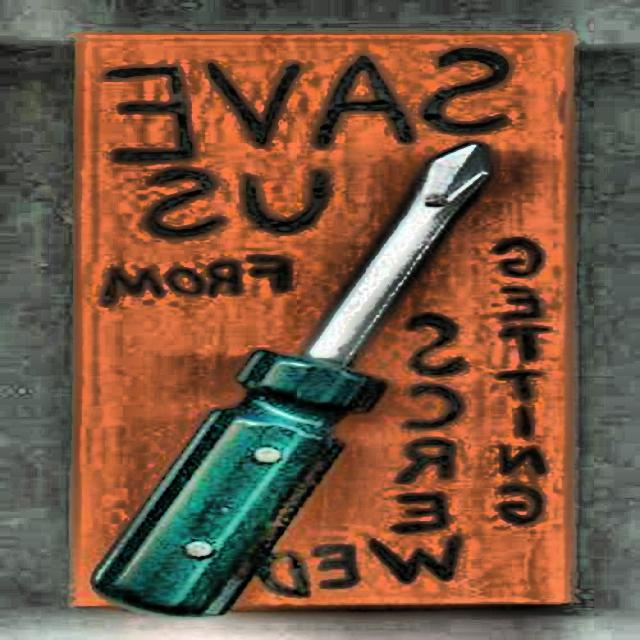screwdriver: (91, 143, 488, 619)
